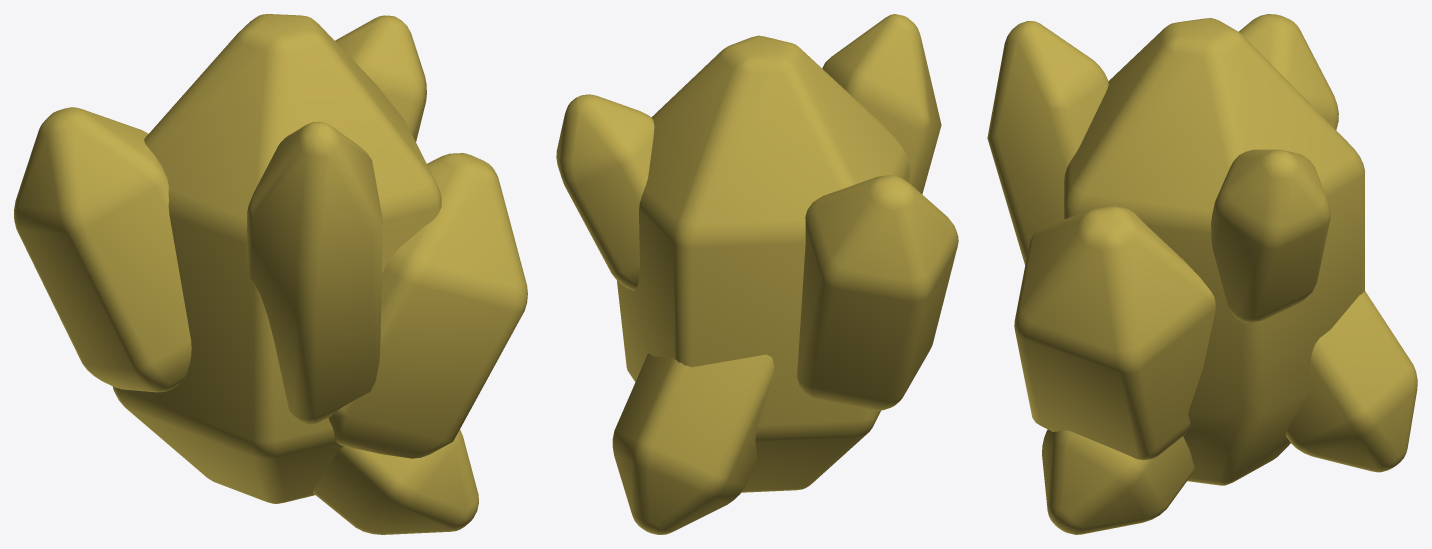
Rendered from Ore.fbx.
The picture shows the model from 3 angles, left to right: view 1: azimuth 30°, elevation 25°; view 2: azimuth 150°, elevation 25°; view 3: azimuth 270°, elevation 25°; orthographic projection. The views are drawn at different scales.
Visible parts, largest first — view 1: Cylinder; view 2: Cylinder; view 3: Cylinder.
Boxes of the visible parts, x1,y1,x2,y2 form: Cylinder: [14, 14, 527, 534]; Cylinder: [556, 14, 958, 534]; Cylinder: [987, 14, 1417, 534].
Bounding box in the file's own units: 270 × 298 × 254.
